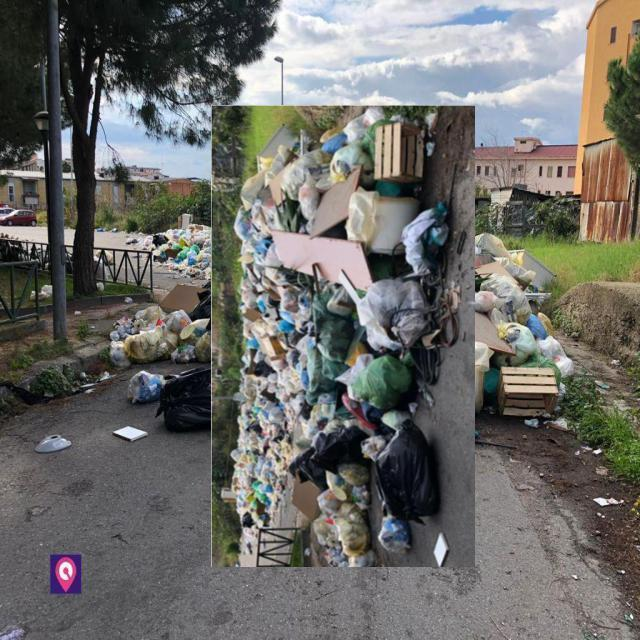Trashbag: (378, 414, 442, 520), (299, 424, 368, 496), (150, 365, 217, 438)
